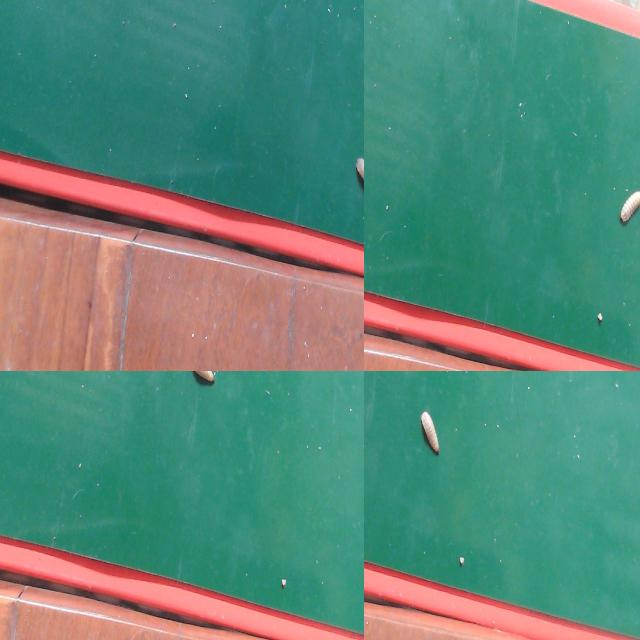Maggot: (420, 413, 442, 458), (619, 191, 640, 226), (191, 371, 216, 388), (356, 159, 364, 194)
